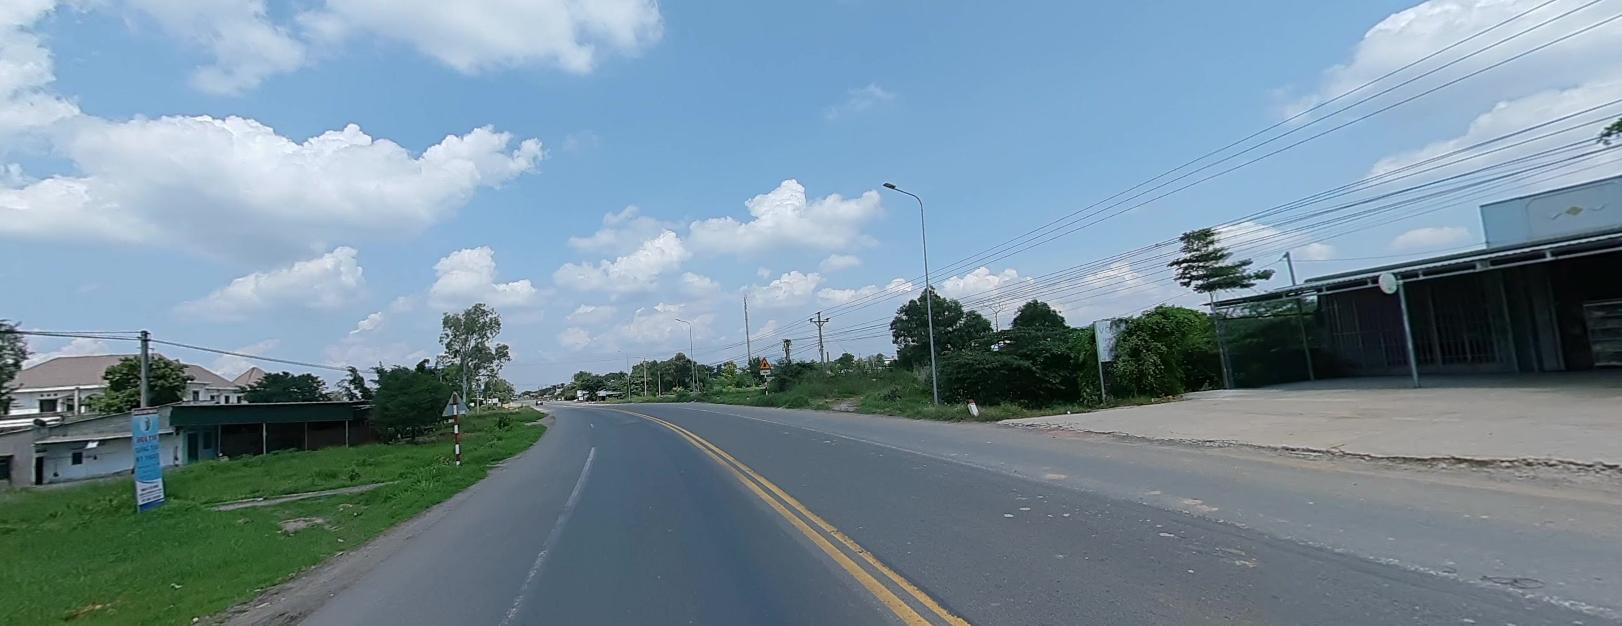Nguy hiem: (759, 356, 770, 367), (759, 357, 770, 367)
